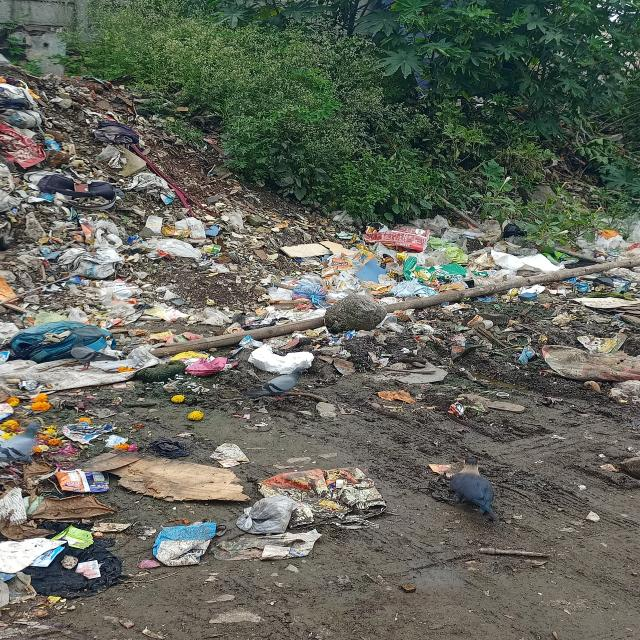garbage: (2, 63, 226, 606), (232, 213, 640, 417), (241, 444, 393, 566)
